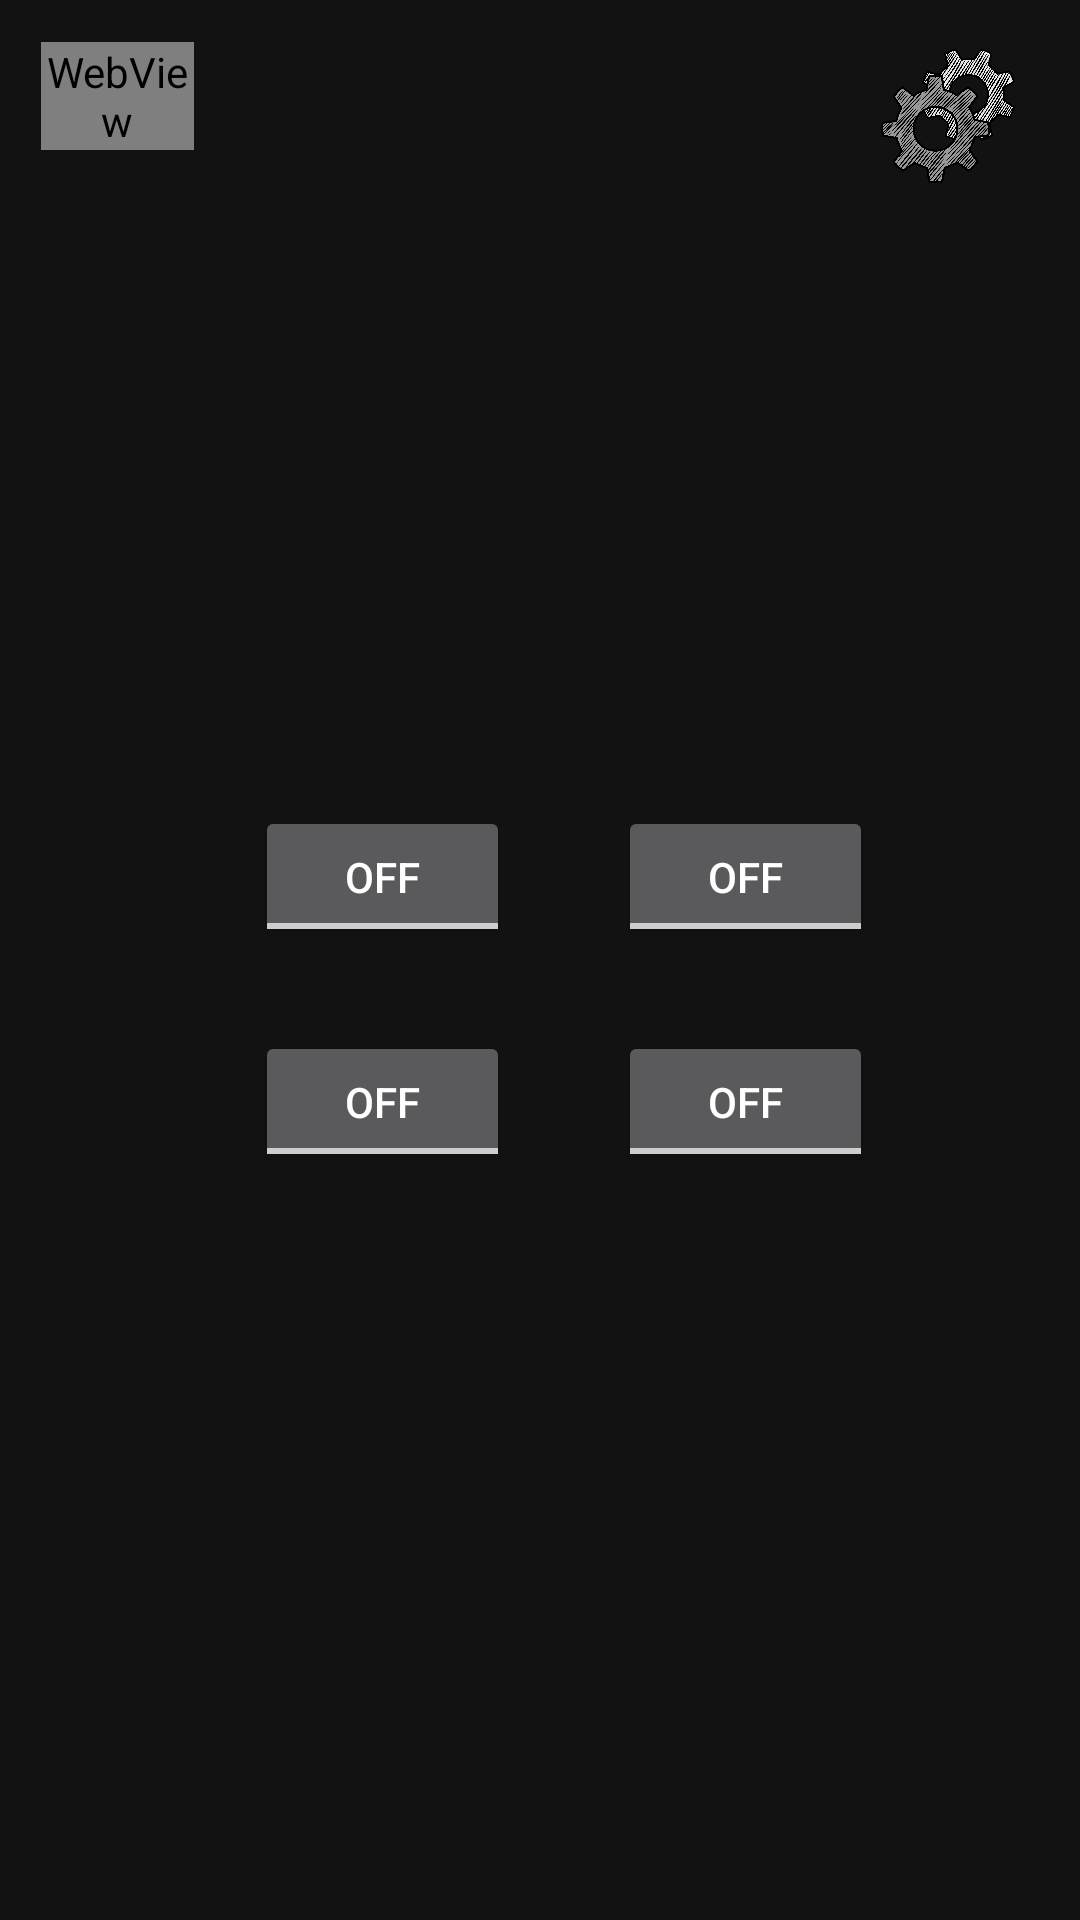

Point at icon controls on the screen. Image size 1080w x 1920h, points as (x=x, y=y).
engrenagem lapis: (x=948, y=116)
